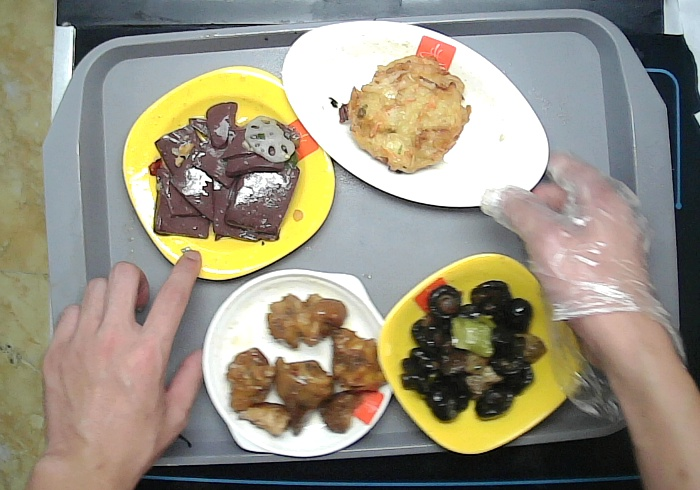SHKJ-Bao_Yu_Pan: (199, 267, 395, 456)
SHKJ-Huang_Se_Cai_Die: (378, 253, 586, 459)
SHKJ-Huang_Se_Si_Fang_Cai_Die: (121, 63, 340, 282)
SHKJ-Yu_Pan: (282, 19, 552, 210)
